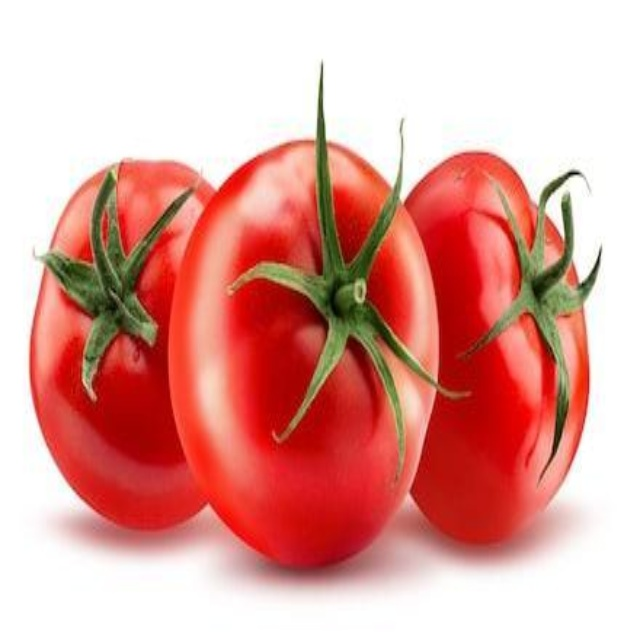tomato: (167, 127, 438, 569), (26, 154, 240, 537), (396, 153, 602, 547)
